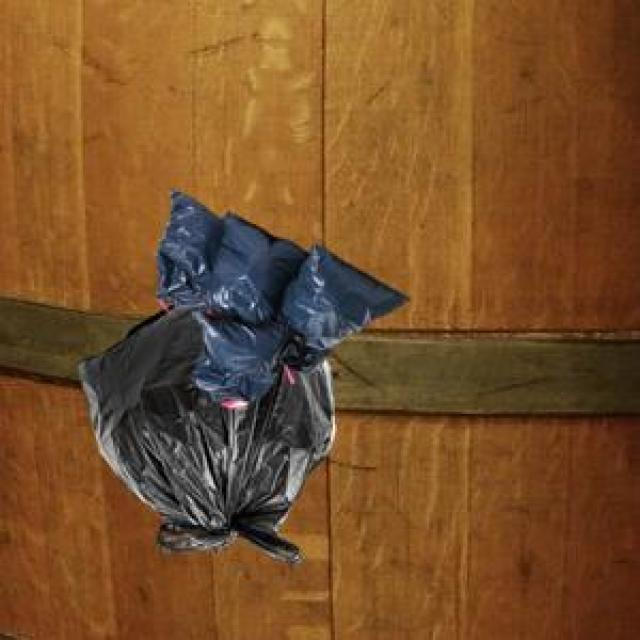waste: (81, 192, 405, 562)
